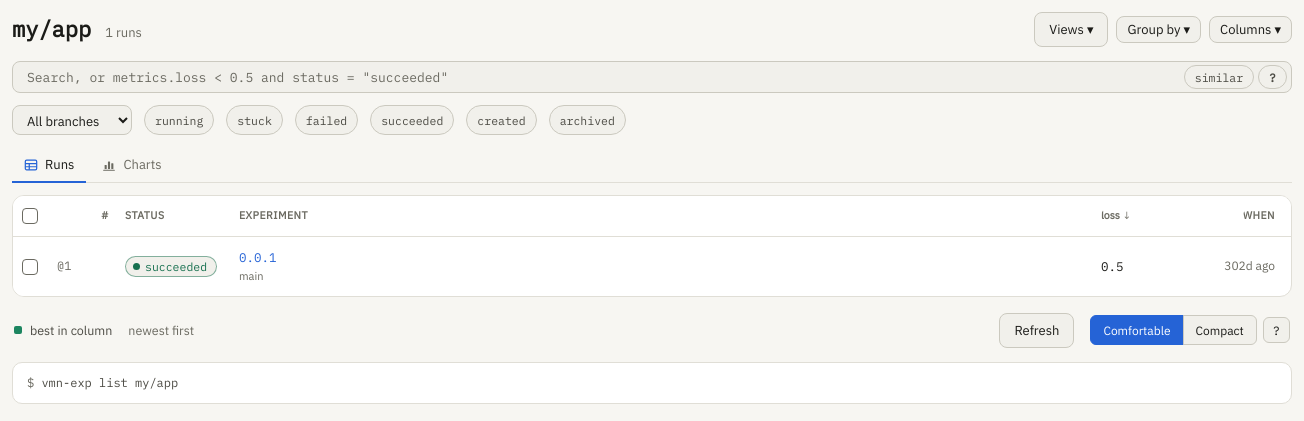
Test: Leaderboard similar mode › restores the table when the mode is left
The width and height of the screenshot is (1304, 421).
Check: the link "0.0.1" is shown, box [239,248,276,267]
Click the button "similar" at (1219, 77), box [1184,65,1254,89]
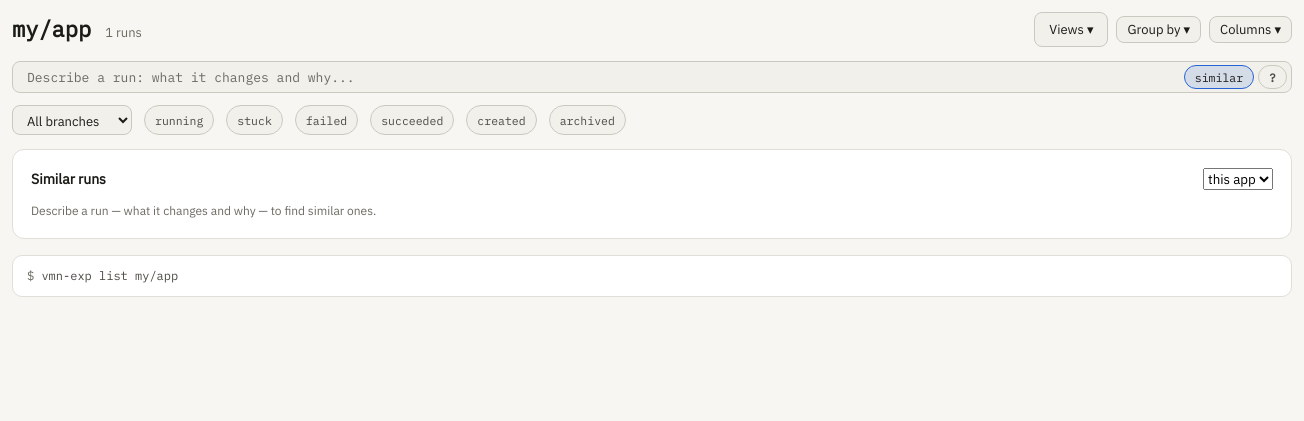
Type "focal loss" into the field named "Filter query" at (600, 77), box [21,65,1180,89]
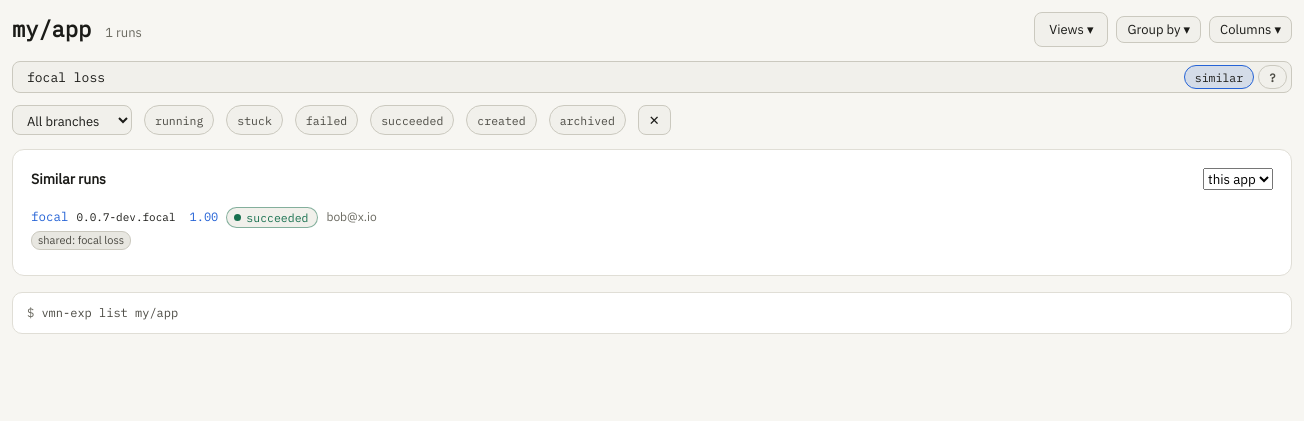
Check: the link "focal" is shown, box [31,207,68,226]
Click the button "similar" at (1219, 77), box [1184,65,1254,89]
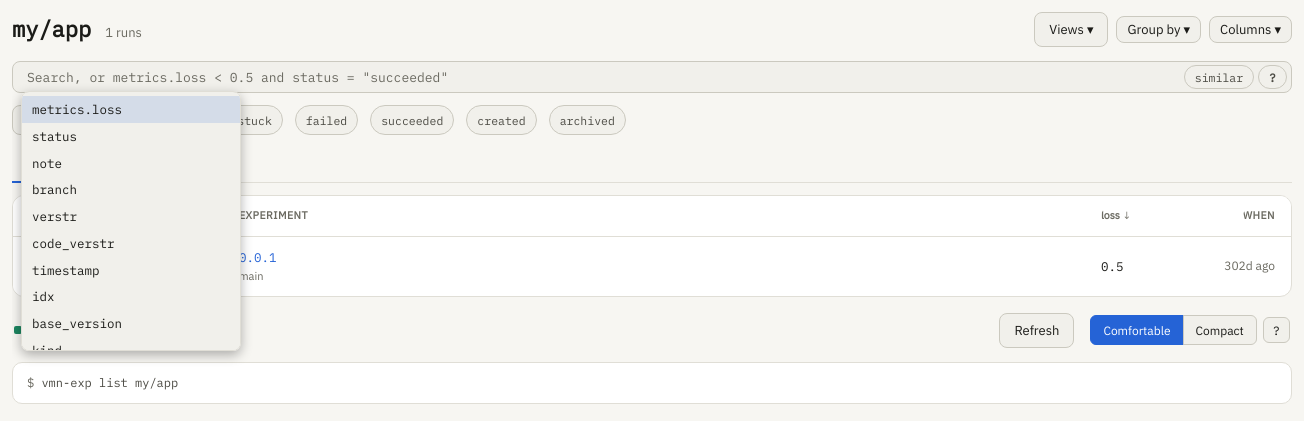
Check: the link "0.0.1" is shown, box [239,248,276,267]
Check: the link "focal" is gone
